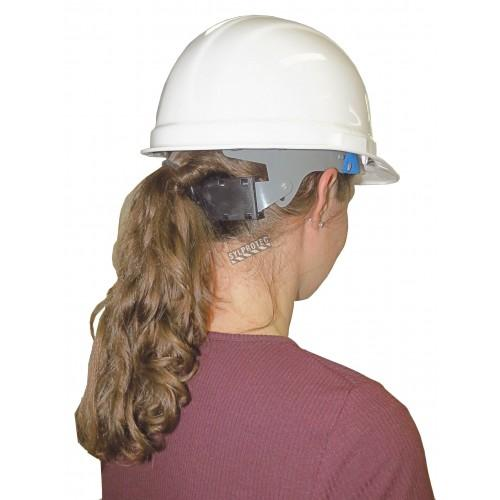helmet: (139, 15, 401, 175)
